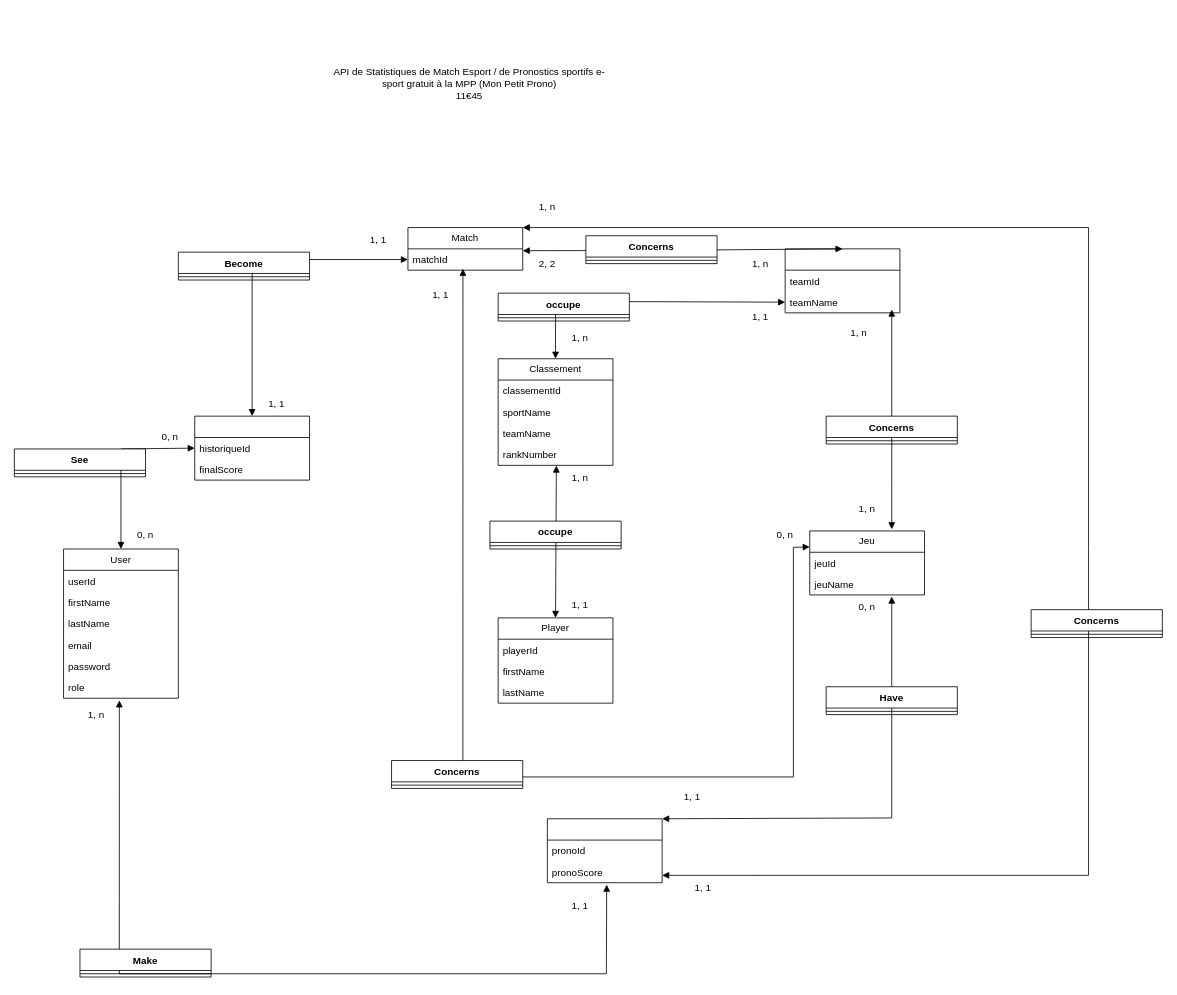
This 1177x995 diagram has some shape labels left out. The shapes that lost their labels are listed below. From the top down, each one's box as (x1, y1, x2, y2) in pixels, then its label:
(784, 248, 900, 313): Equipe
(194, 415, 310, 480): Historique Match
(547, 818, 662, 883): Pronostic
